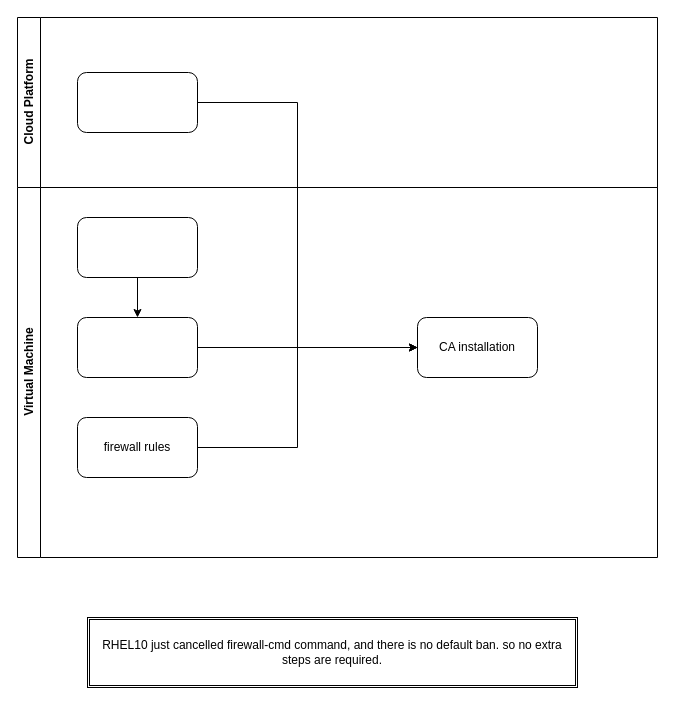
Image size: 675x705. Some labels were removed from this diagram. The centre of each missing label's shape, as x and y in pixels:
"httpd installation" goes at point (137, 247).
"Security Group Rules" goes at point (137, 102).
"VirtualHost" goes at point (137, 347).
